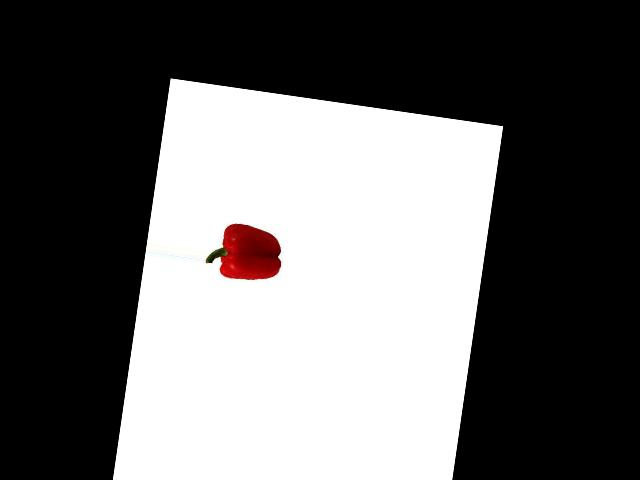bell_pepper: (204, 212, 287, 287)
